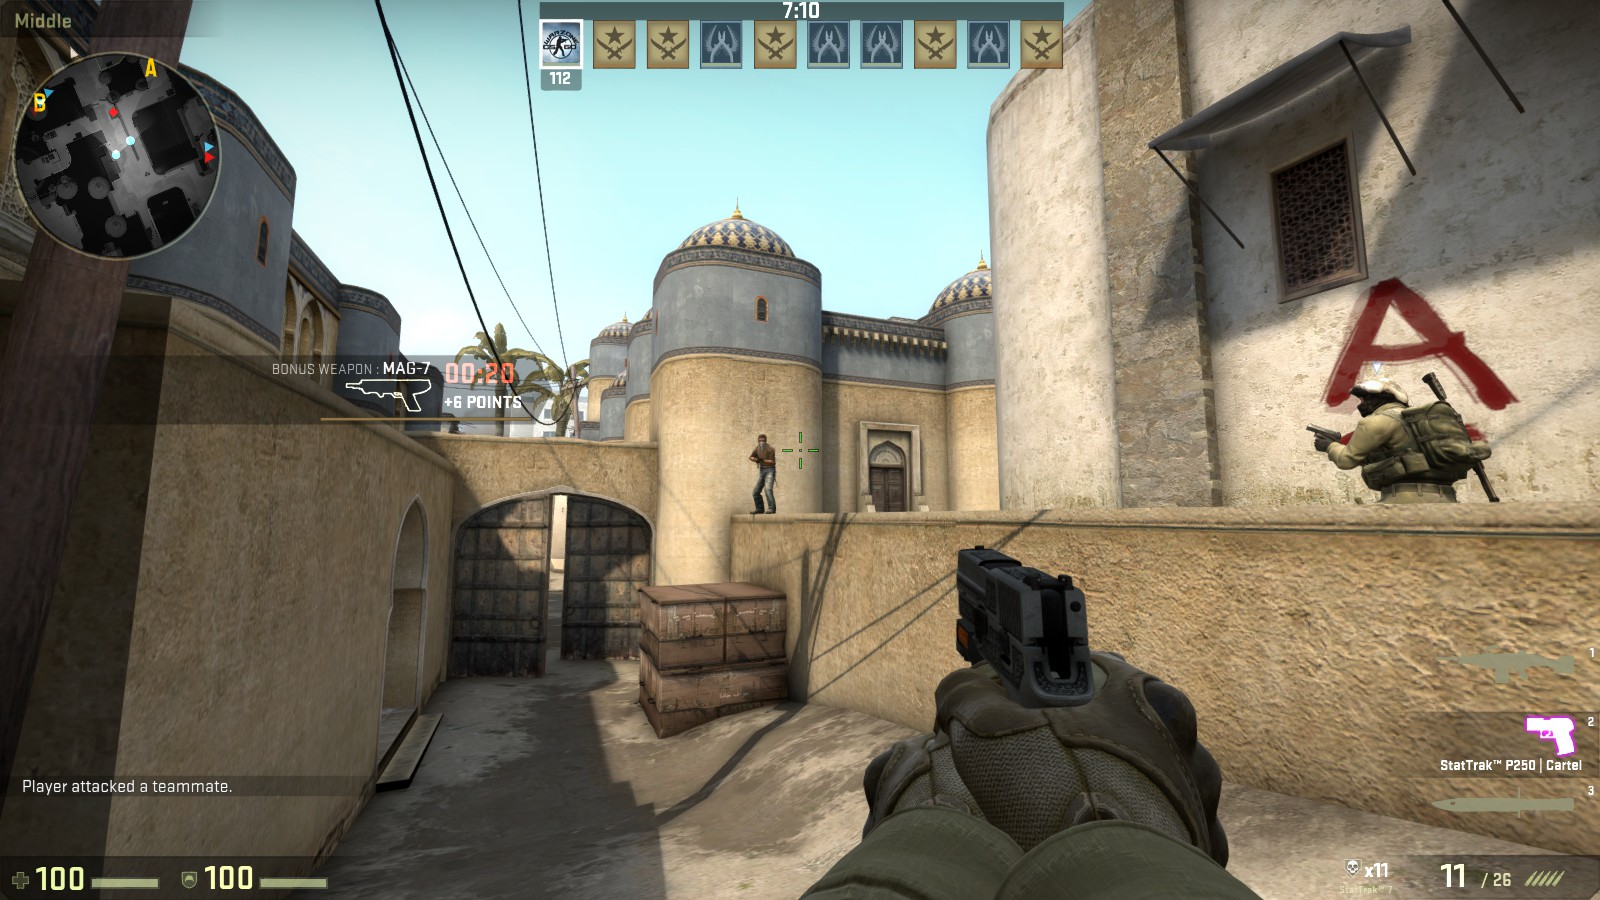c: (1343, 375, 1484, 508)
ch: (1349, 376, 1408, 423)
t: (749, 433, 777, 514)
th: (757, 432, 769, 449)
